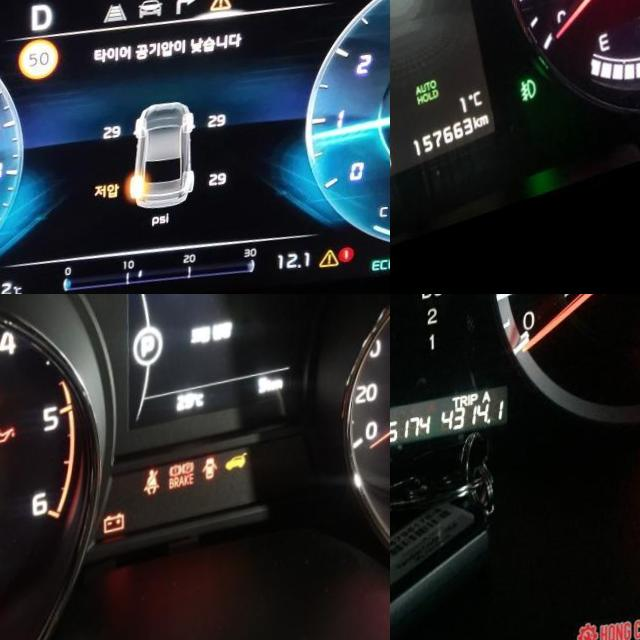Central Warning lamp: (209, 0, 231, 24), (319, 263, 339, 283)
Doors: (201, 466, 217, 491)
FrontFogLight: (518, 90, 538, 120)
LaneCenteringOff: (321, 0, 355, 11)
